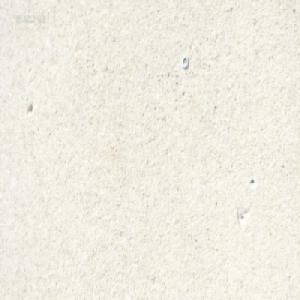Washer: (181, 53, 189, 68)
